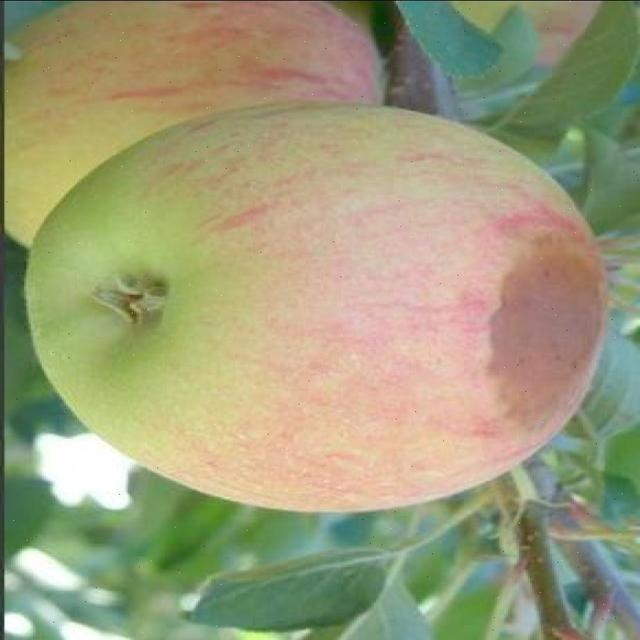Sunscald Fruit: (293, 142, 415, 296)
